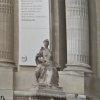Statue: (28, 30, 71, 100)
